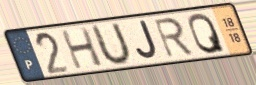2: (34, 30, 71, 76)
H: (58, 26, 105, 71)
J: (135, 19, 160, 62)
Q: (187, 11, 227, 55)
R: (151, 15, 196, 60)
U: (90, 21, 133, 68)
